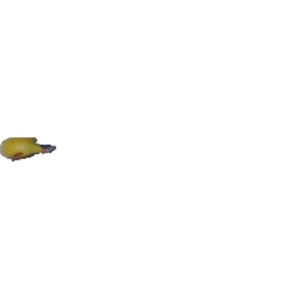banana: (1, 133, 56, 163)
